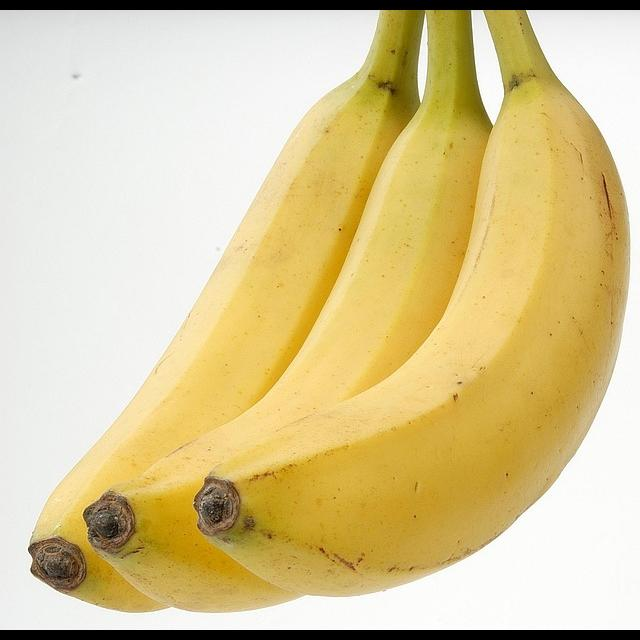apple: (38, 37, 498, 611), (96, 63, 592, 590), (207, 61, 635, 601)
